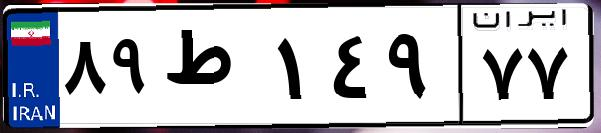1: (270, 28, 330, 110)
4: (330, 28, 385, 110)
7: (475, 38, 525, 113), (525, 38, 570, 115)
8: (57, 26, 110, 100)
9: (385, 28, 445, 110), (110, 28, 158, 98)
ط: (158, 20, 270, 120)
